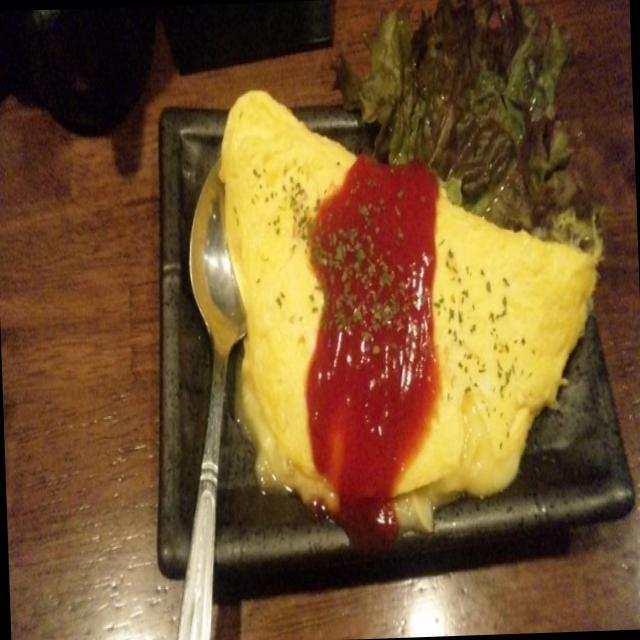Omelet: (215, 112, 597, 460)
